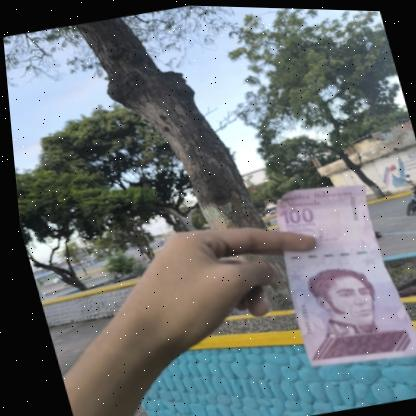one_hundred-front-vef: (256, 170, 416, 372)
